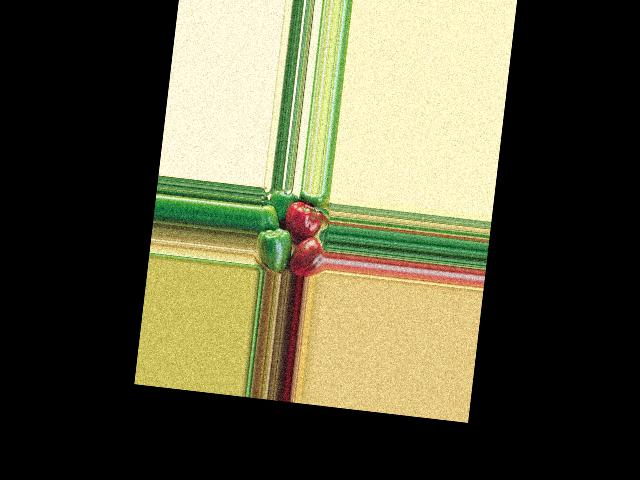bell_pepper: (290, 235, 326, 278)
